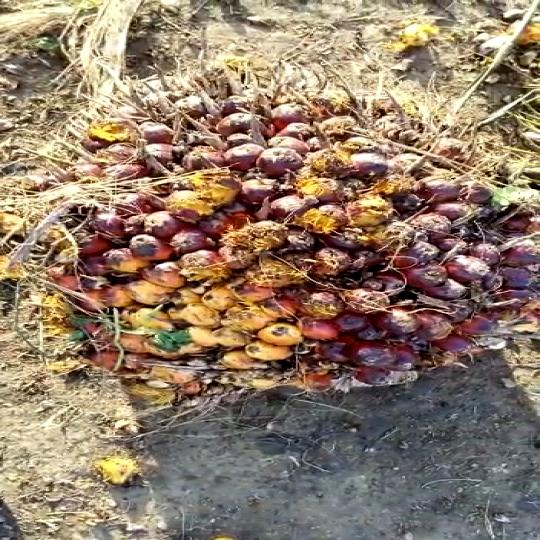masak: (50, 70, 540, 414)
